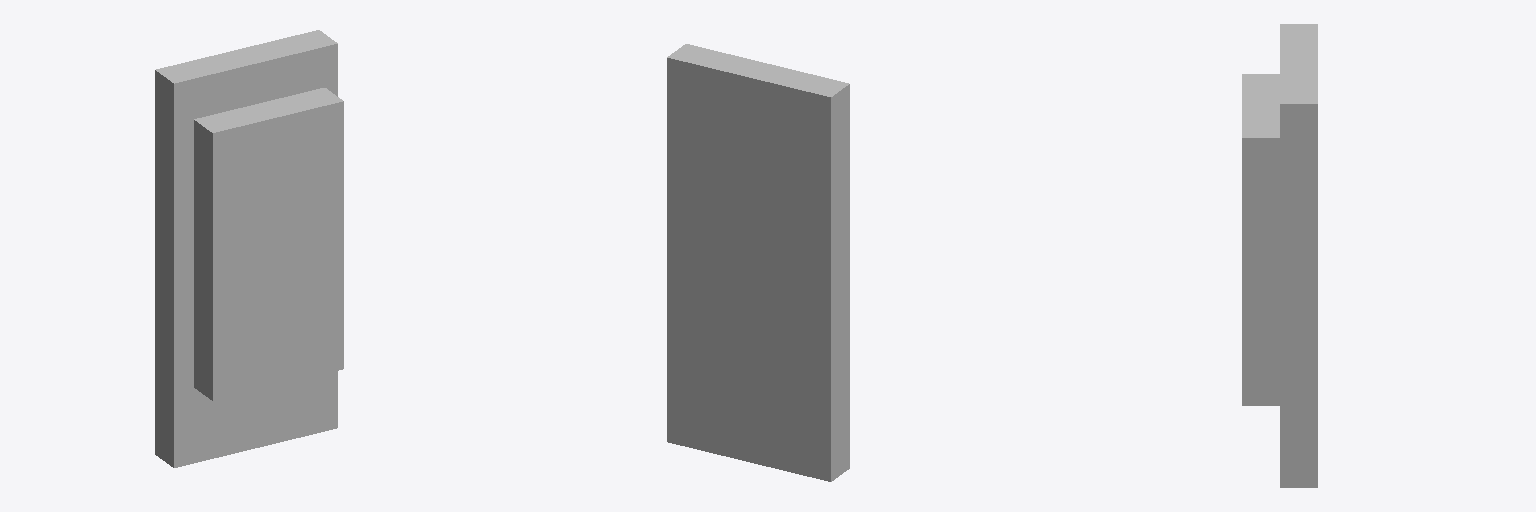
Rendered from case_inside.obj.
The picture shows the model from 3 angles: view 1: azimuth 30°, elevation 25°; view 2: azimuth 150°, elevation 25°; view 3: azimuth 270°, elevation 25°; orthographic projection.
Visible parts, largest first — view 1: Box005, Box004; view 2: Box004; view 3: Box004, Box005.
Boxes of the visible parts, x1=… form: Box005: x1=194, y1=88, x2=343, y2=400; Box004: x1=155, y1=30, x2=337, y2=467; Box004: x1=667, y1=44, x2=849, y2=481; Box004: x1=1280, y1=24, x2=1317, y2=487; Box005: x1=1242, y1=74, x2=1279, y2=405.
Size of the model in its own units: 50 by 112 by 20.